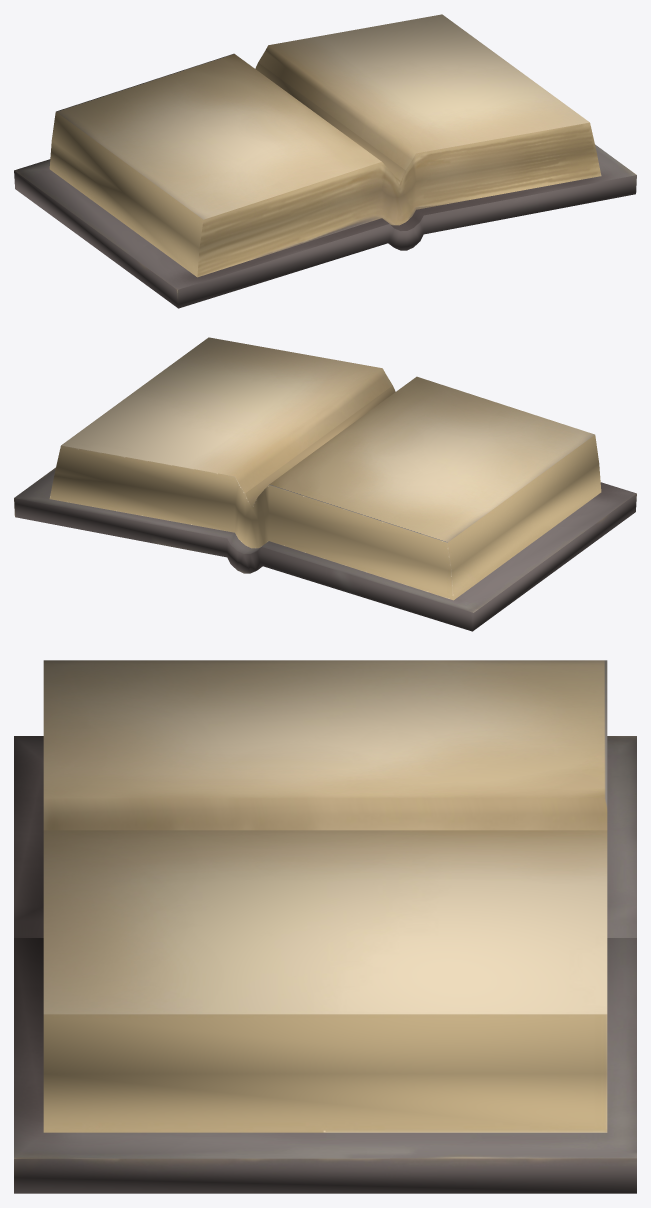
File: BOOK.fbx
The picture shows the model from 3 angles, top to bottom: view 1: azimuth 30°, elevation 25°; view 2: azimuth 150°, elevation 25°; view 3: azimuth 270°, elevation 25°; orthographic projection. The views are drawn at different scales.
Parts seen in each view (by area): view 1: Box003_1; view 2: Box003_1; view 3: Box003_1.
Part boxes in pixels (left/top/right/bottom): Box003_1: left=14, top=14, right=636, bottom=308; Box003_1: left=14, top=337, right=636, bottom=631; Box003_1: left=14, top=660, right=636, bottom=1193.
Bounding box in the file's own units: 17.06 × 3.18 × 10.5.
1 material, 1 textured.
